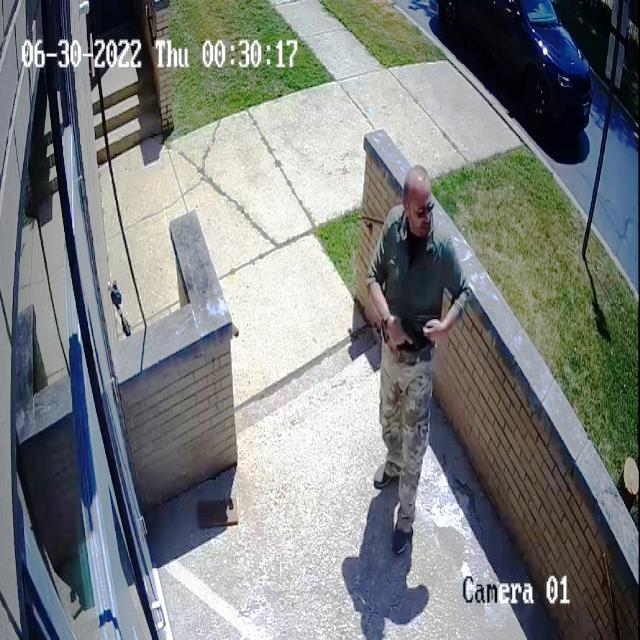Gun: (386, 305, 441, 358)
